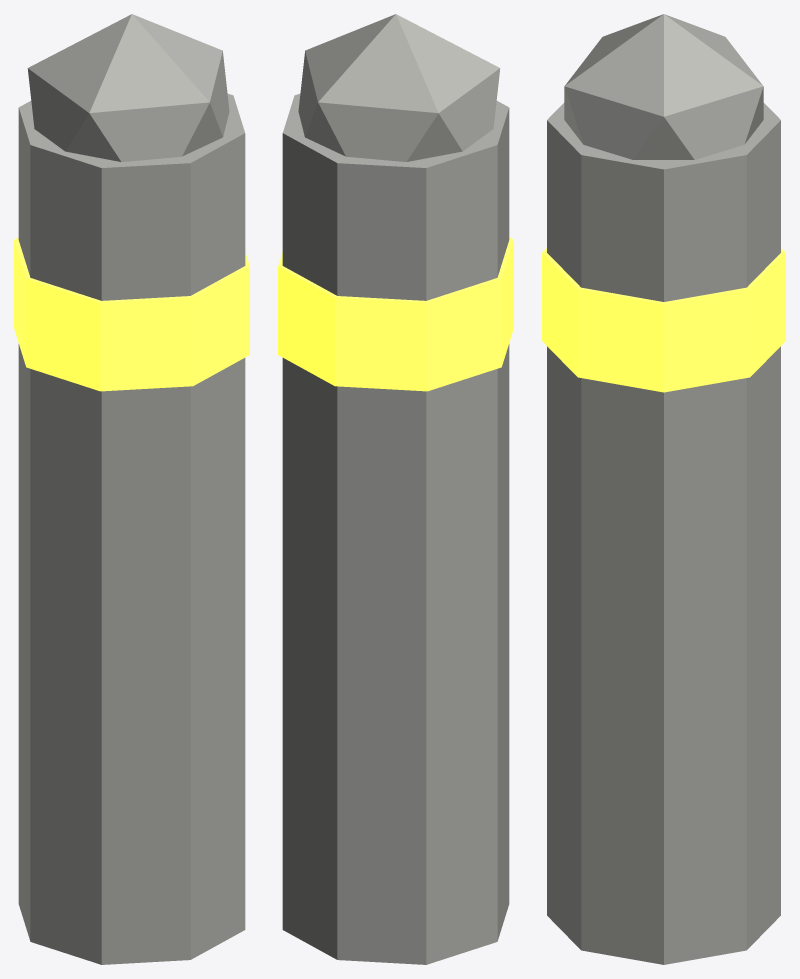
The model's file is bollard.glb.
3 renders of one model, left to right at view 1: azimuth 30°, elevation 25°; view 2: azimuth 150°, elevation 25°; view 3: azimuth 270°, elevation 25°, orthographic.
Parts seen in each view (by area): view 1: bollard; view 2: bollard; view 3: bollard.
Boxes of the visible parts, x1,y1,x2,y2 form: bollard: [14, 14, 249, 964]; bollard: [278, 14, 513, 964]; bollard: [542, 14, 785, 964].
Size of the model in its own units: 0.25 by 1.02 by 0.25.
